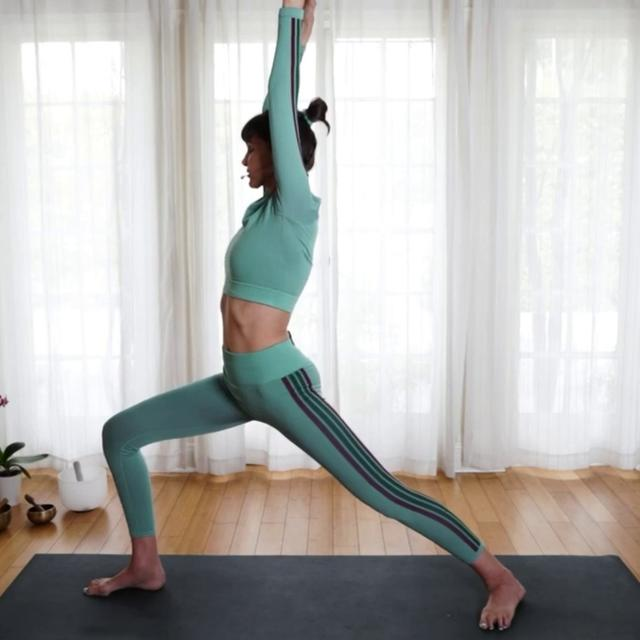Warrior_I: (68, 6, 539, 627)
